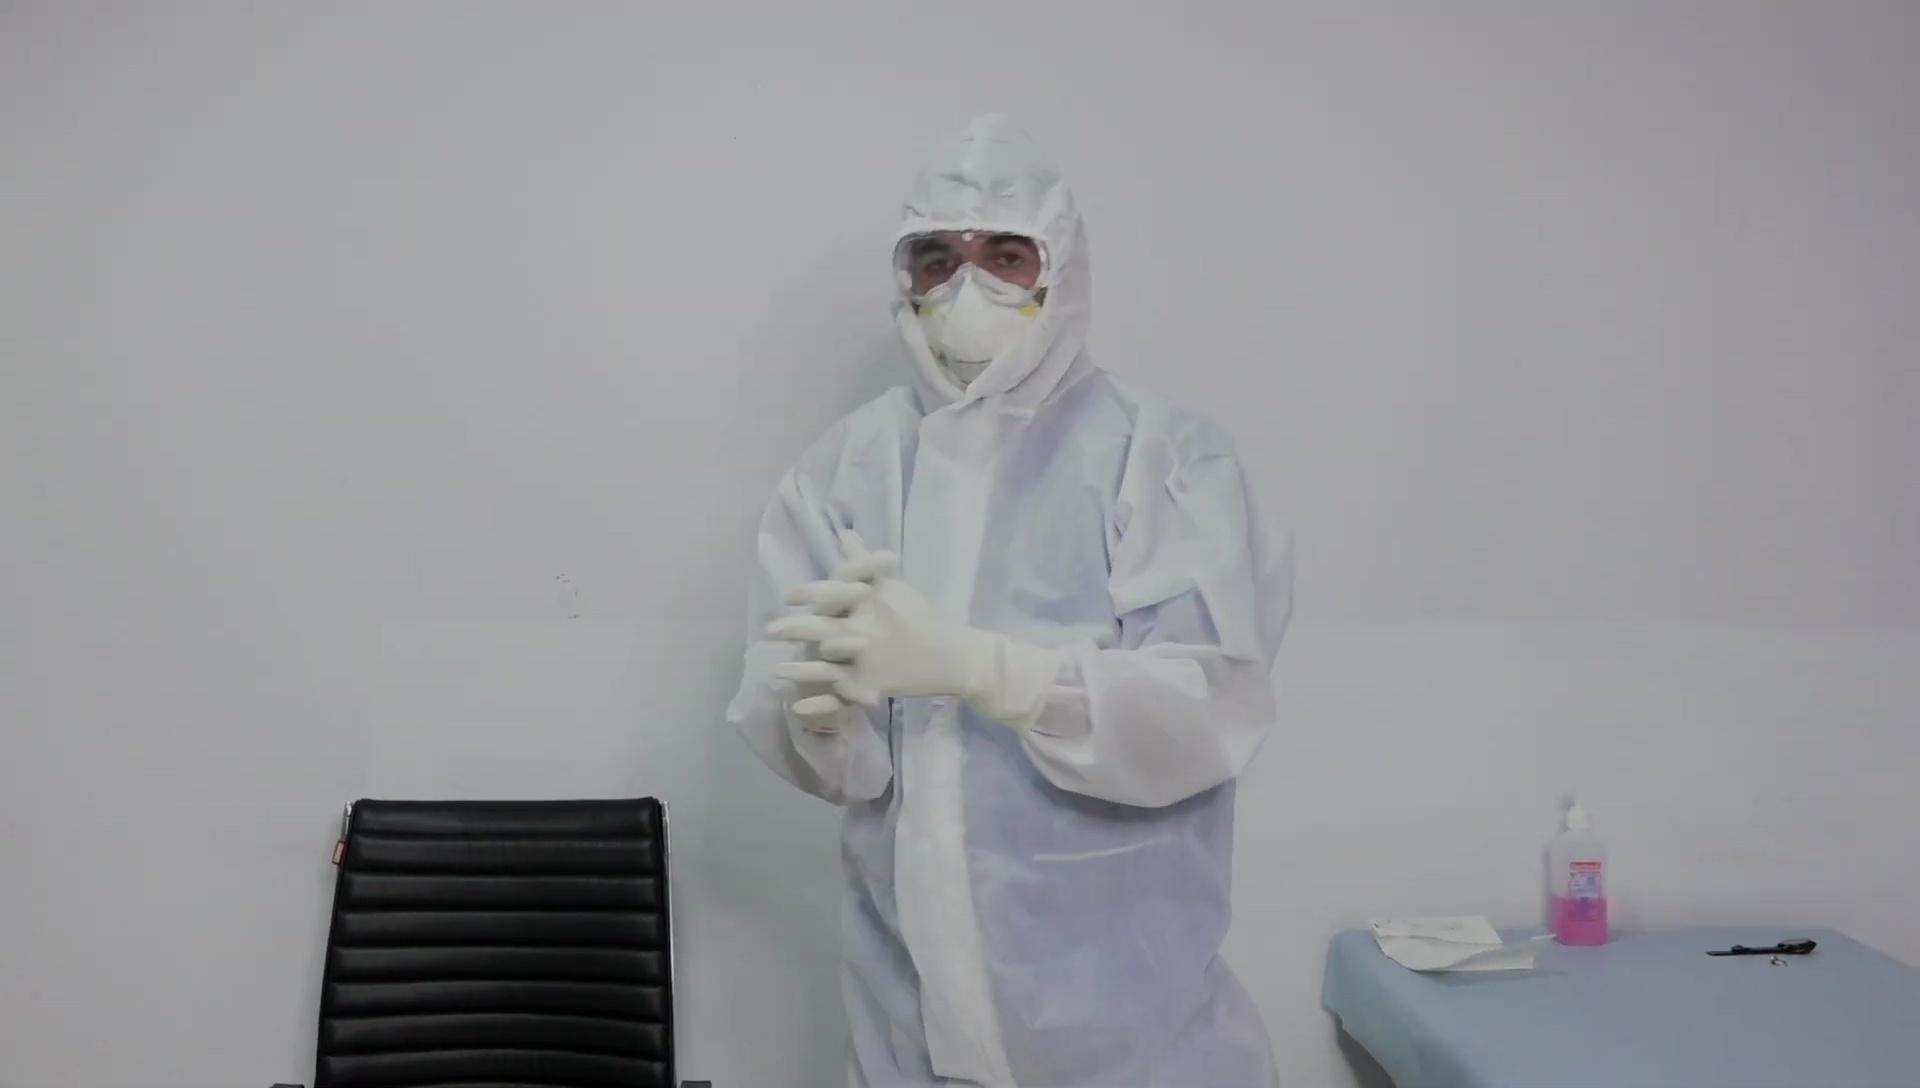Gloves: (763, 527, 1000, 712), (804, 548, 896, 727)
Goggles: (890, 225, 1049, 311)
